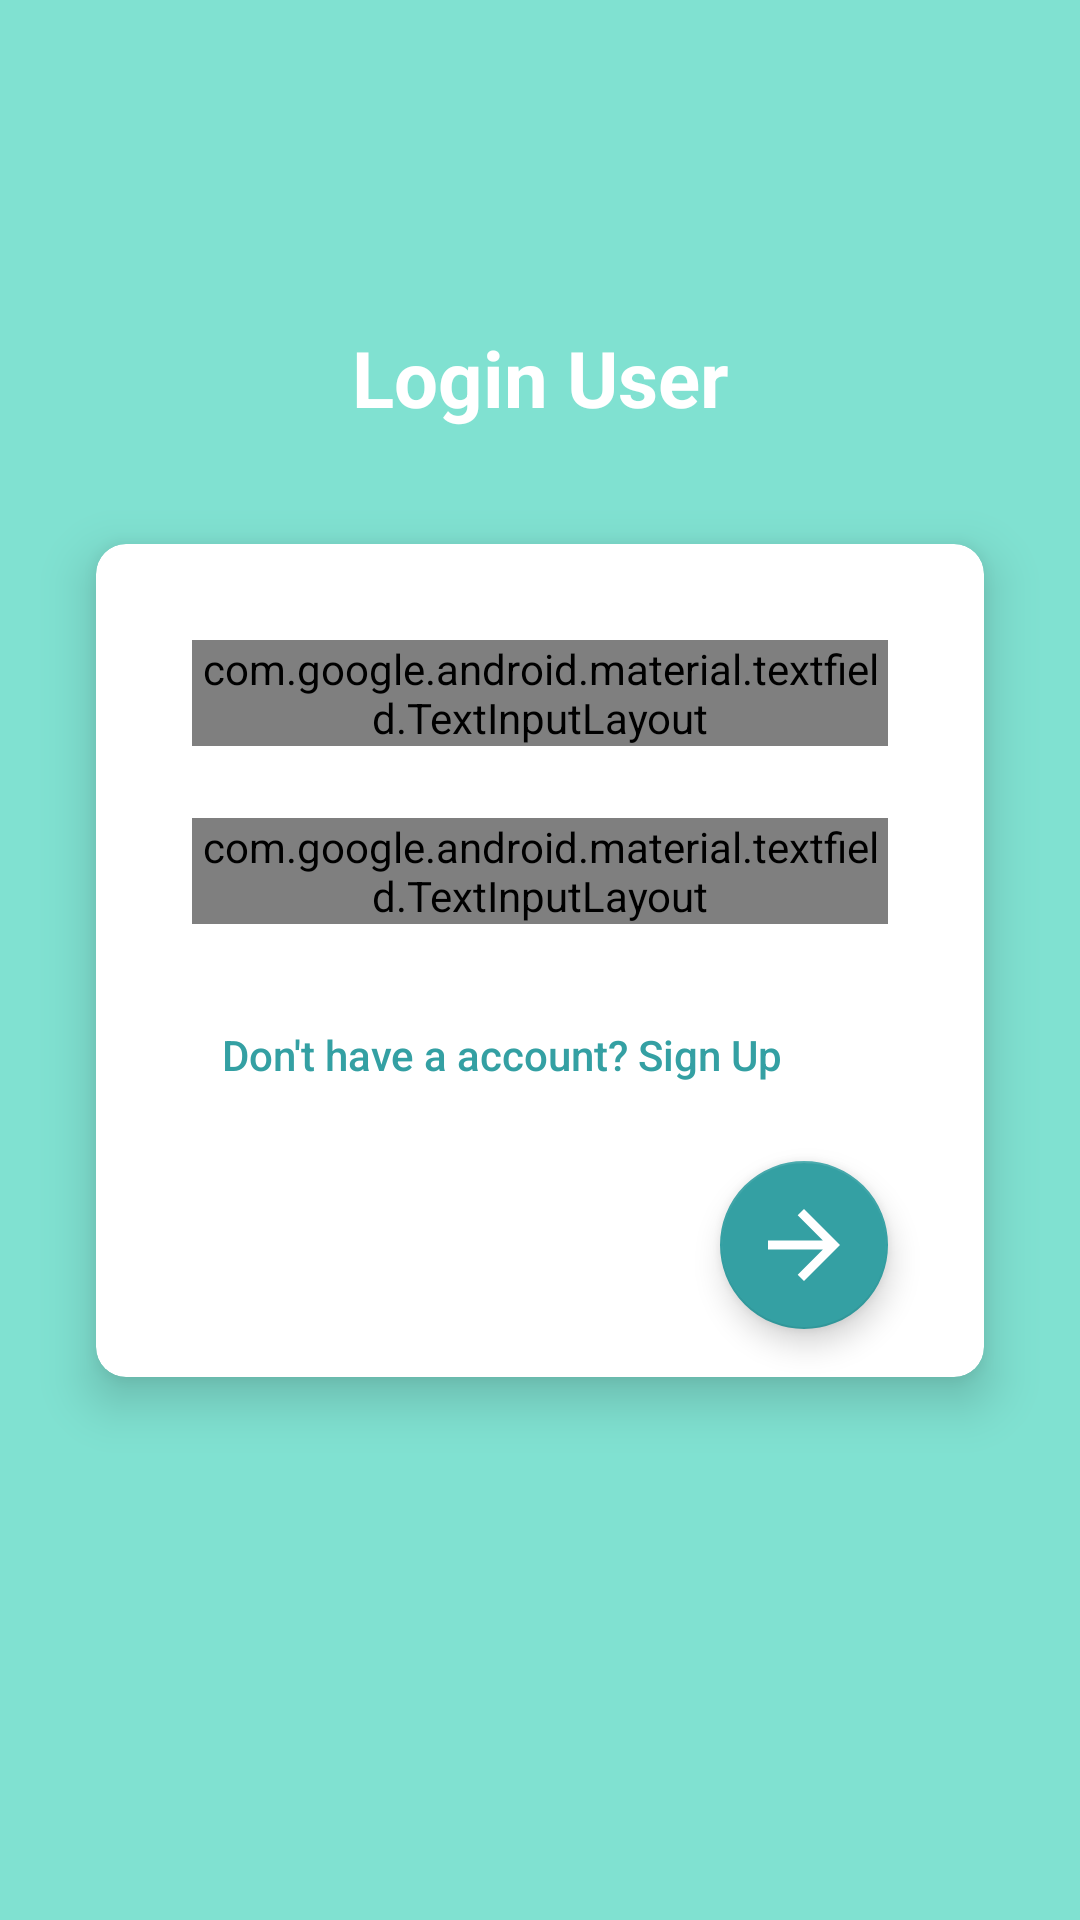

Locate icon controls on the screen. Image size 1080px×1920px, boxes as (x1, y1, x2, y2).
right arrow forward: (720, 1161, 888, 1329)
